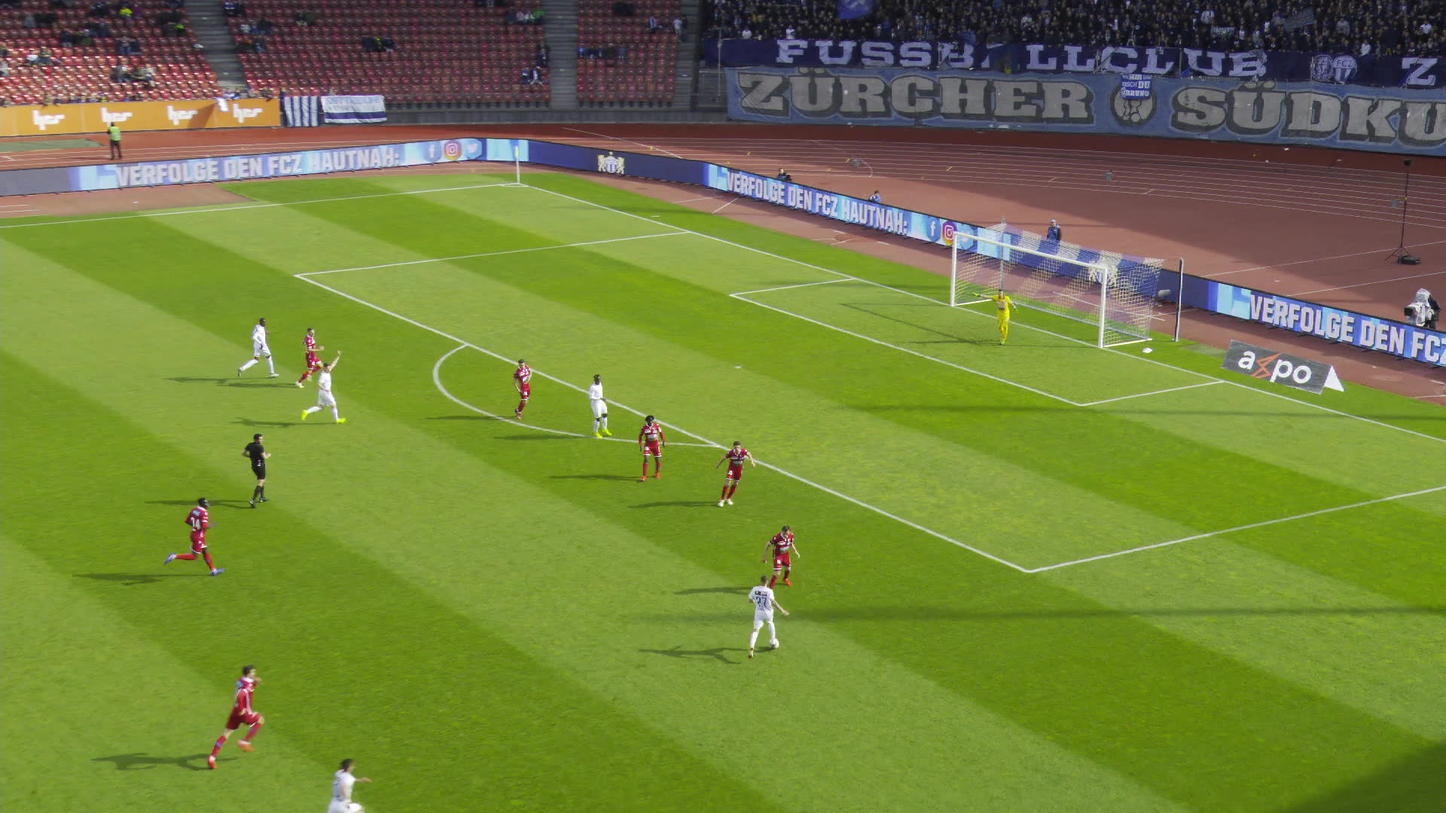ball: (768, 638, 779, 648)
player: (204, 662, 271, 772), (162, 498, 224, 576), (746, 577, 792, 656), (714, 440, 754, 506), (305, 350, 339, 425), (974, 288, 1019, 343), (761, 525, 798, 589), (316, 759, 358, 812), (239, 318, 274, 379), (288, 327, 322, 383), (639, 413, 667, 480), (588, 375, 611, 437), (513, 358, 530, 419)
referee: (245, 434, 276, 505)
